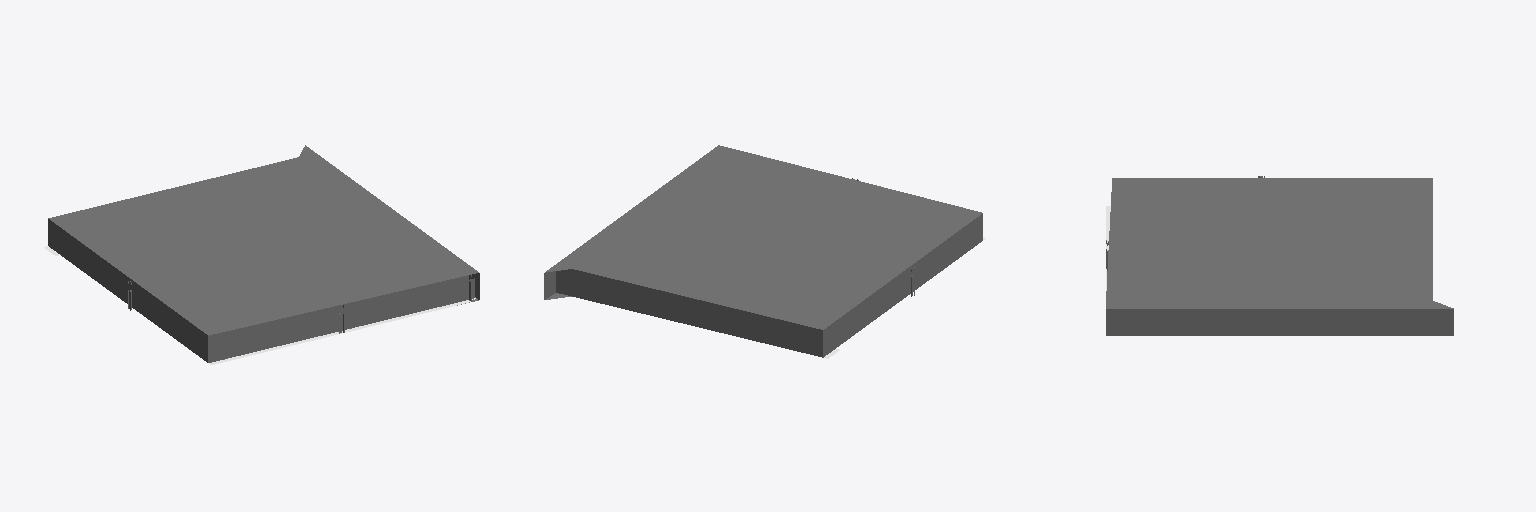
Rendered from ba513649-aefa-495f-9e05-6bb724e47368.obj.
The picture shows the model from 3 angles: view 1: azimuth 30°, elevation 25°; view 2: azimuth 150°, elevation 25°; view 3: azimuth 270°, elevation 25°; orthographic projection.
Parts seen in each view (by area): view 1: VertWalls5, Box2Wall103, Box2Wall110, Room1; view 2: VertWalls5, Box2Wall109, Box2Wall110; view 3: VertWalls5, Box2Wall107.
Boxes of the visible parts, <box> form: VertWalls5: <box>48,145,478,335</box>; Box2Wall103: <box>208,275,468,362</box>; Box2Wall110: <box>48,219,207,362</box>; Room1: <box>209,300,470,364</box>; VertWalls5: <box>545,145,982,329</box>; Box2Wall109: <box>556,269,822,357</box>; Box2Wall110: <box>823,214,982,357</box>; VertWalls5: <box>1106,178,1453,308</box>; Box2Wall107: <box>1106,309,1453,335</box>.
Size of the model in its own units: 25.82 by 2.5 by 28.58.